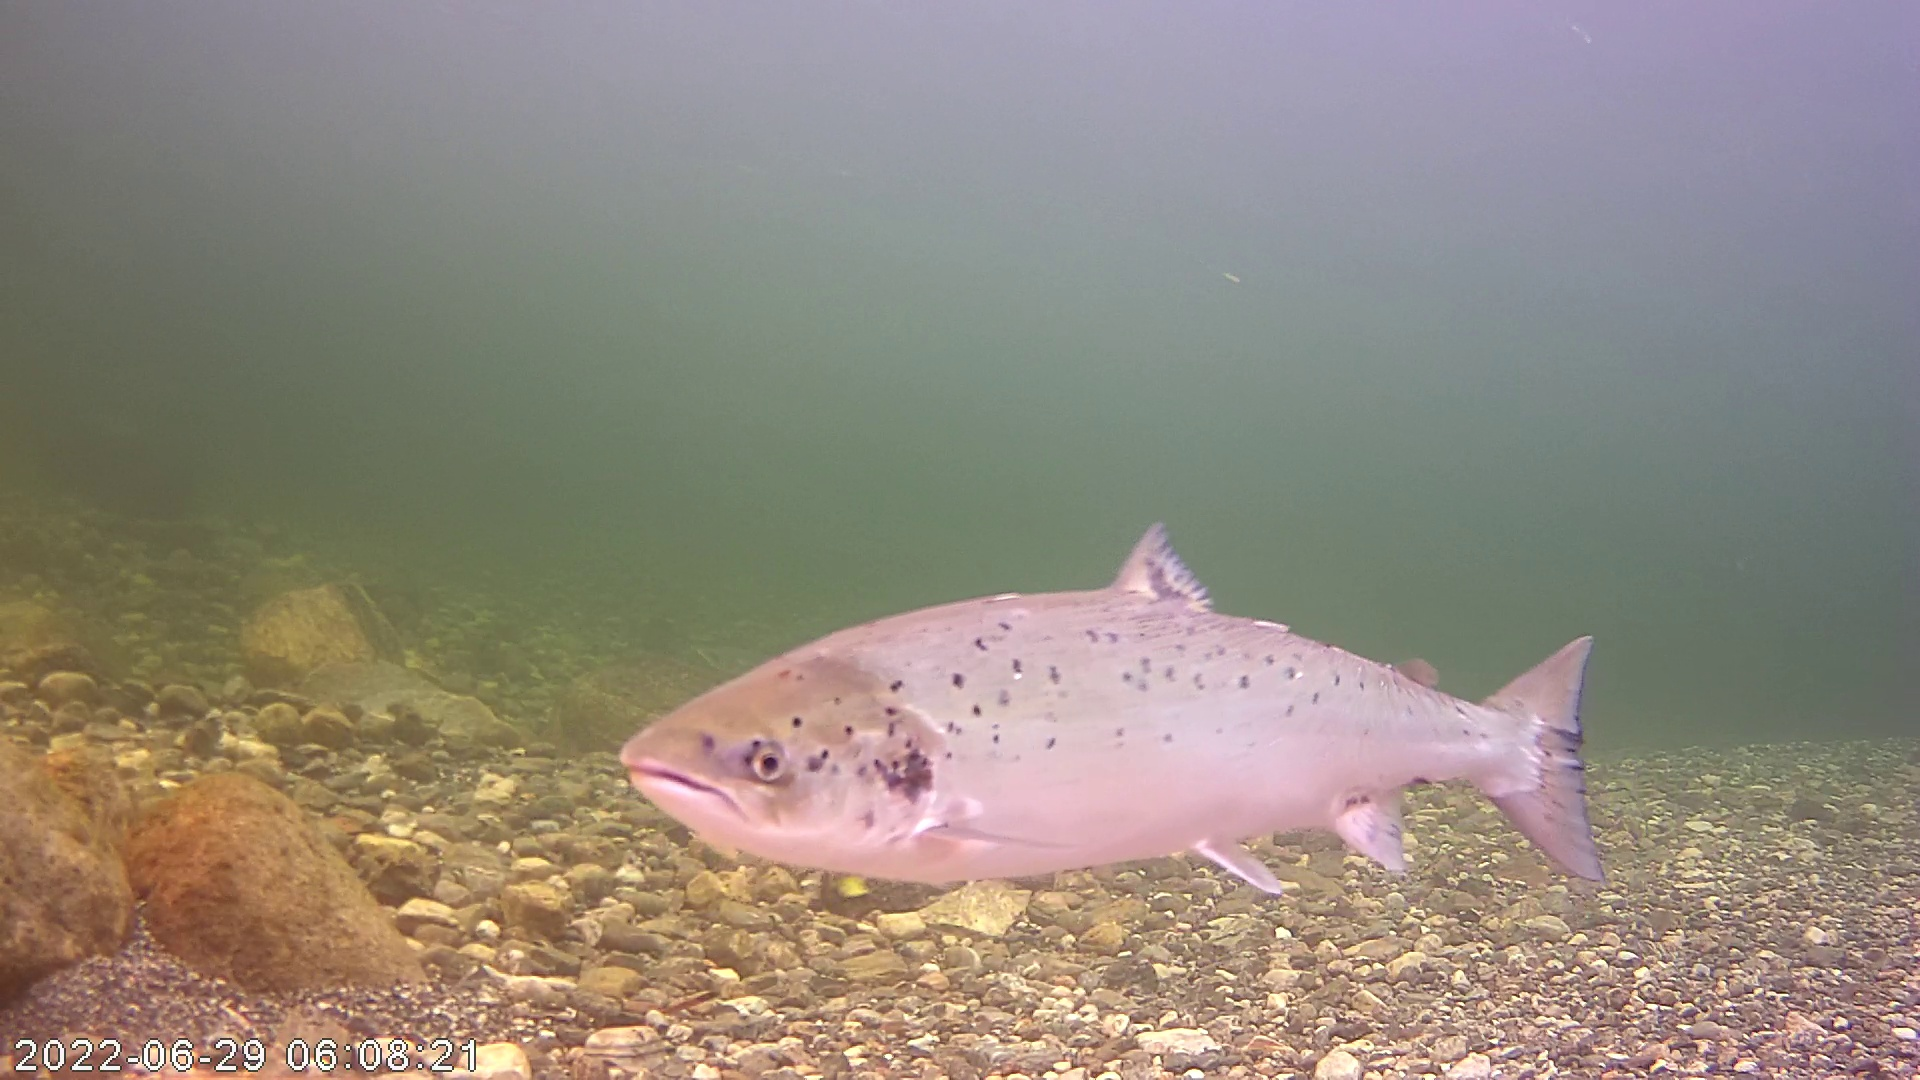salmon: (622, 465, 1607, 910)
